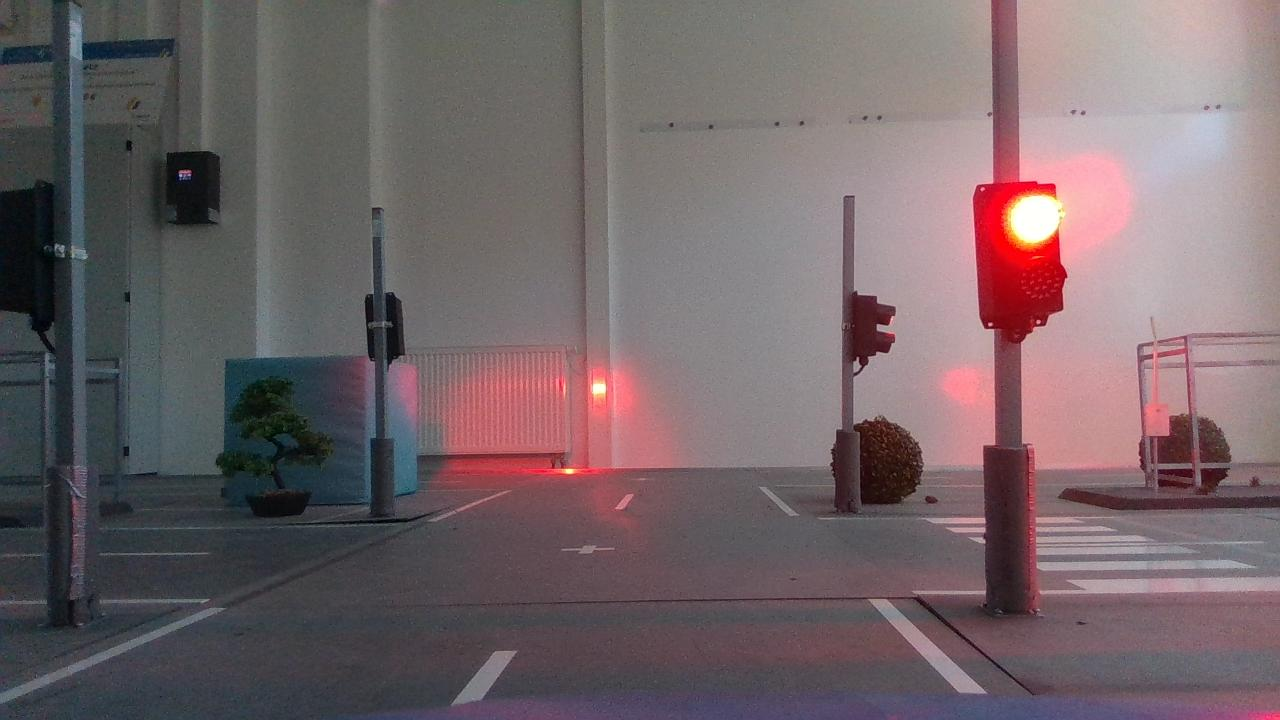traffic_light_red: (965, 165, 1076, 346)
